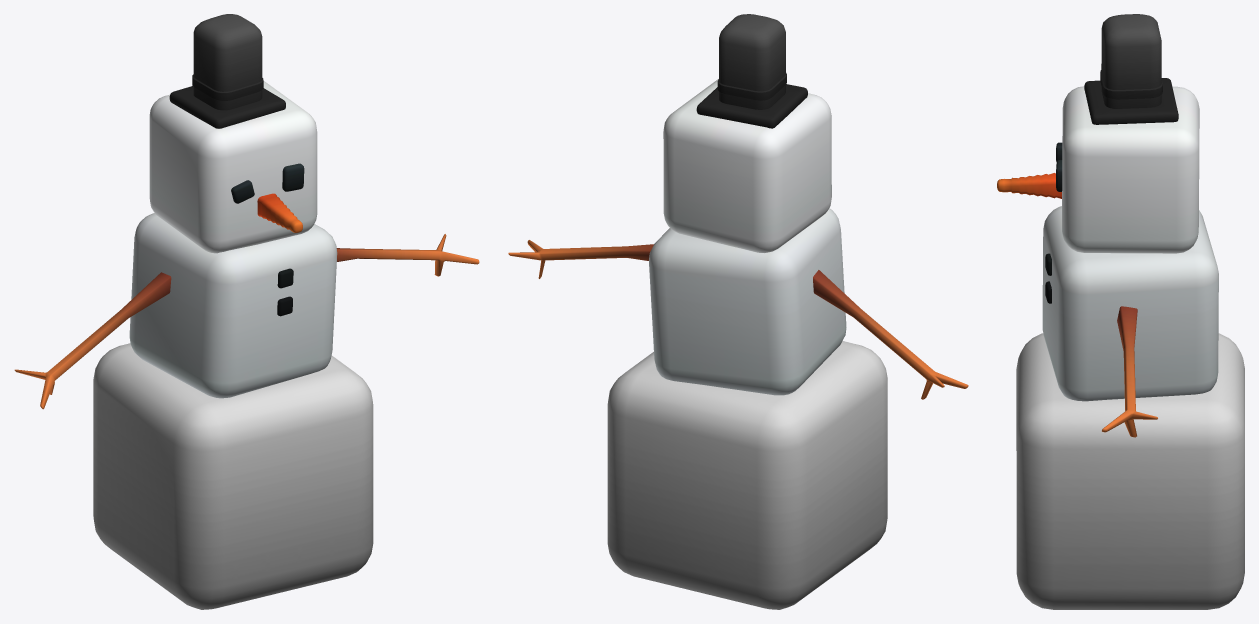
Rendered from snowman.glb.
The picture shows the model from 3 angles, left to right: view 1: azimuth 30°, elevation 25°; view 2: azimuth 150°, elevation 25°; view 3: azimuth 270°, elevation 25°; orthographic projection.
Visible parts, largest first — view 1: Snowman; view 2: Snowman; view 3: Snowman.
Boxes of the visible parts, <box> form: Snowman: <box>14,14,479,609</box>; Snowman: <box>508,14,968,609</box>; Snowman: <box>997,14,1244,609</box>.
Bounding box in the file's own units: 1.49 × 1.75 × 0.7153.
Materials: 1 (1 with a texture image).
